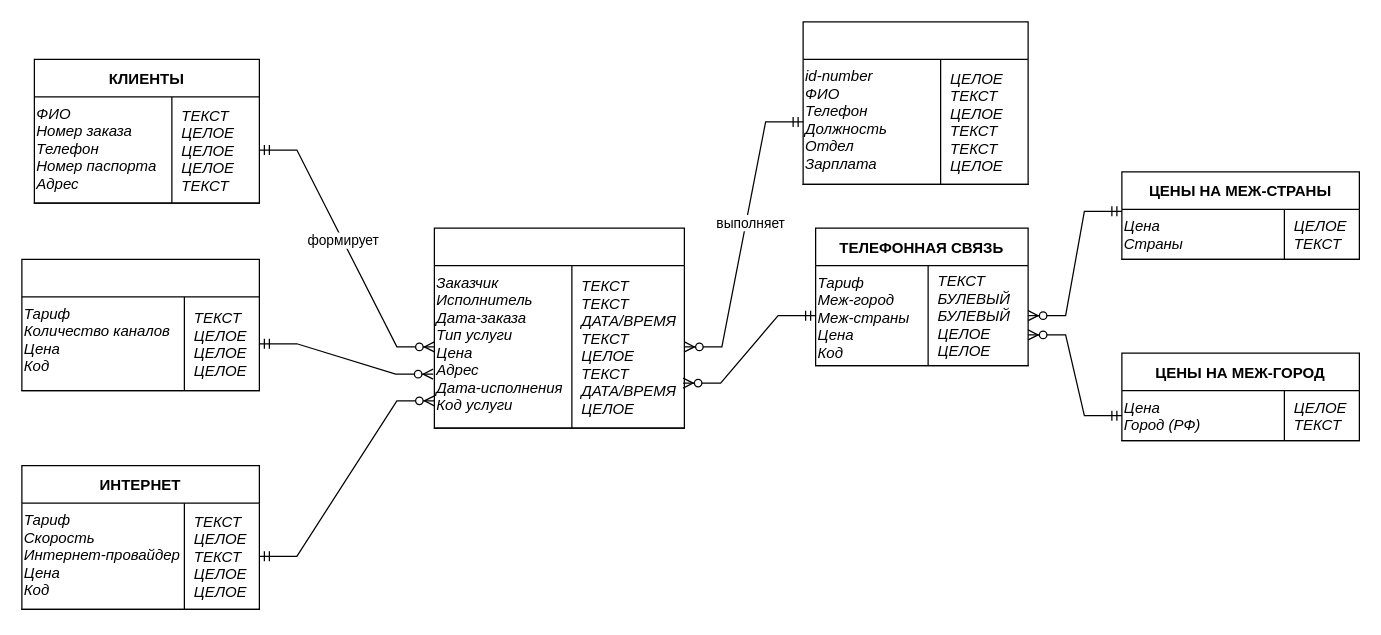
Image size: 1381x635. Some labels were removed from this diagram. Here are the shapes that lost their labels. From the top down, the box of each, then its label:
(802, 21, 1028, 184): СОТРУДНИКИ
(21, 258, 259, 391): ТЕЛЕВИДЕНИЕ
(433, 227, 684, 428): ЗАКАЗЫ
